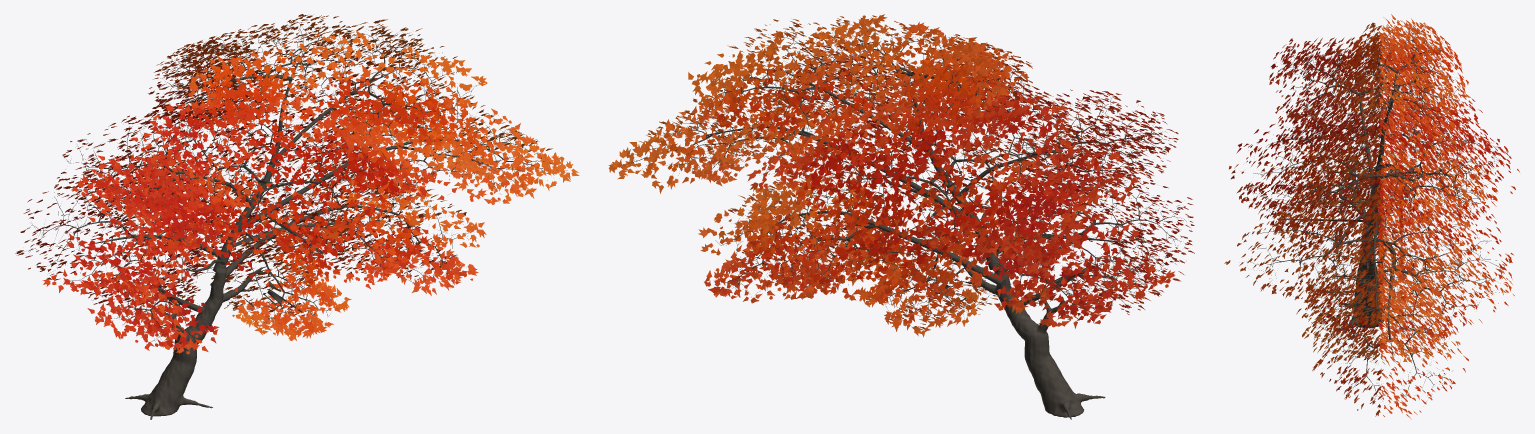
The model's file is wish-tree-natural-r04-mobile.glb.
The picture shows the model from 3 angles, left to right: view 1: azimuth 30°, elevation 25°; view 2: azimuth 150°, elevation 25°; view 3: azimuth 270°, elevation 25°; orthographic projection. The views are drawn at different scales.
Visible parts, largest first — view 1: CANOPY_heart, CANOPY_crown, CANOPY_upper-left, CANOPY_right-upper, CANOPY_left-shelf, CANOPY_lower-heart, CANOPY_right-middle, WOOD_natural_trunk, CANOPY_left-lower, CANOPY_lower-fall, CANOPY_right-fall, CANOPY_right-reach (+9 smaller); view 2: CANOPY_heart, CANOPY_crown, CANOPY_lower-heart, CANOPY_upper-left, CANOPY_left-shelf, CANOPY_right-upper, WOOD_natural_trunk, CANOPY_right-middle, CANOPY_left-lower, CANOPY_right-fall, CANOPY_lower-fall, CANOPY_right-reach (+9 smaller); view 3: CANOPY_heart, CANOPY_crown, CANOPY_right-upper, CANOPY_lower-heart, CANOPY_right-middle, CANOPY_upper-left, CANOPY_right-fall, CANOPY_left-shelf, CANOPY_right-reach, WOOD_natural_trunk, TWIGS_heart, CANOPY_lower-fall (+11 smaller).
Boxes of the visible parts, <box> form: CANOPY_heart: <box>148,81,400,269</box>; CANOPY_crown: <box>144,14,394,141</box>; CANOPY_upper-left: <box>57,101,272,220</box>; CANOPY_right-upper: <box>277,19,487,166</box>; CANOPY_left-shelf: <box>15,177,221,296</box>; CANOPY_lower-heart: <box>211,149,428,289</box>; CANOPY_right-middle: <box>318,69,557,204</box>; WOOD_natural_trunk: <box>89,43,497,419</box>; CANOPY_left-lower: <box>82,234,254,354</box>; CANOPY_lower-fall: <box>211,237,351,340</box>; CANOPY_right-fall: <box>346,178,486,295</box>; CANOPY_right-reach: <box>432,113,579,198</box>; CANOPY_heart: <box>796,74,1072,266</box>; CANOPY_crown: <box>788,14,1067,133</box>; CANOPY_lower-heart: <box>748,145,981,299</box>; CANOPY_upper-left: <box>942,86,1178,206</box>; CANOPY_left-shelf: <box>976,167,1194,301</box>; CANOPY_right-upper: <box>688,19,915,156</box>; WOOD_natural_trunk: <box>694,44,1128,419</box>; CANOPY_right-middle: <box>656,48,897,195</box>; CANOPY_left-lower: <box>955,216,1174,328</box>; CANOPY_right-fall: <box>698,179,835,303</box>; CANOPY_lower-fall: <box>849,239,1011,337</box>; CANOPY_right-reach: <box>608,98,768,193</box>; CANOPY_heart: <box>1229,96,1519,243</box>; CANOPY_crown: <box>1318,14,1471,141</box>; CANOPY_right-upper: <box>1279,135,1496,232</box>; CANOPY_lower-heart: <box>1280,224,1514,346</box>; CANOPY_right-middle: <box>1224,202,1481,301</box>; CANOPY_upper-left: <box>1269,34,1458,123</box>; CANOPY_right-fall: <box>1312,295,1468,419</box>; CANOPY_left-shelf: <box>1281,88,1482,182</box>; CANOPY_right-reach: <box>1301,296,1449,363</box>; WOOD_natural_trunk: <box>1338,88,1396,355</box>; TWIGS_heart: <box>1248,108,1501,234</box>; CANOPY_lower-fall: <box>1305,252,1454,354</box>.
Size of the model in its own units: 11.28 by 7.17 by 5.72.
3 materials, 3 textured.
